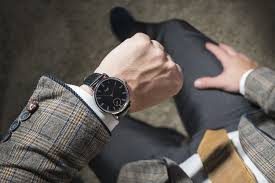clock: (95, 78, 128, 113)
